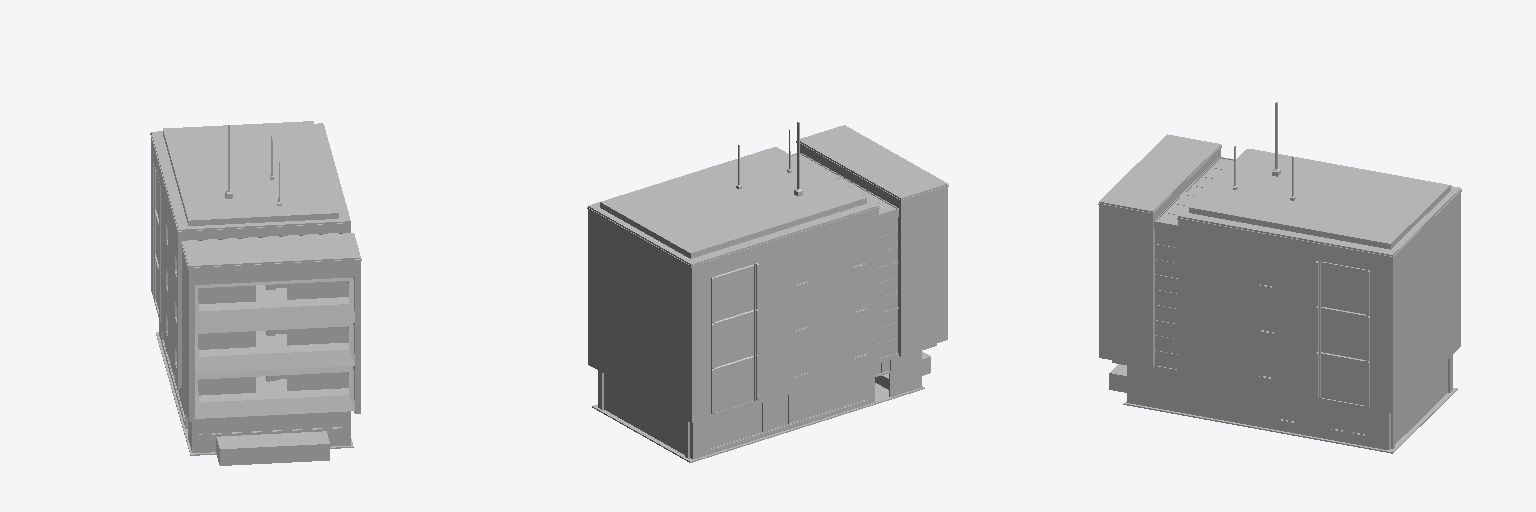
The model's file is BuildingLow2.obj.
The picture shows the model from 3 angles: view 1: azimuth 30°, elevation 25°; view 2: azimuth 150°, elevation 25°; view 3: azimuth 270°, elevation 25°; orthographic projection.
Visible parts, largest first — view 1: Residential_Buildings_002_Cube.012; view 2: Residential_Buildings_002_Cube.012; view 3: Residential_Buildings_002_Cube.012.
Boxes of the visible parts, <box> form: Residential_Buildings_002_Cube.012: <box>150,121,361,465</box>; Residential_Buildings_002_Cube.012: <box>587,122,948,462</box>; Residential_Buildings_002_Cube.012: <box>1098,102,1461,453</box>.
Size of the model in its own units: 4.92 by 5.26 by 6.23.